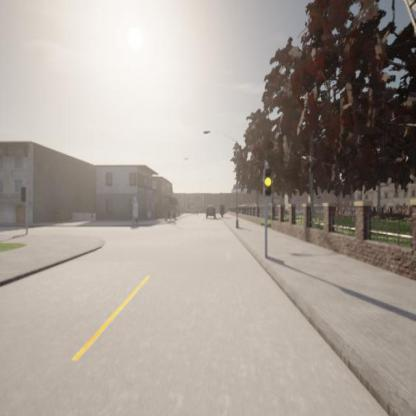traffic_light_orange: (264, 168, 271, 196)
